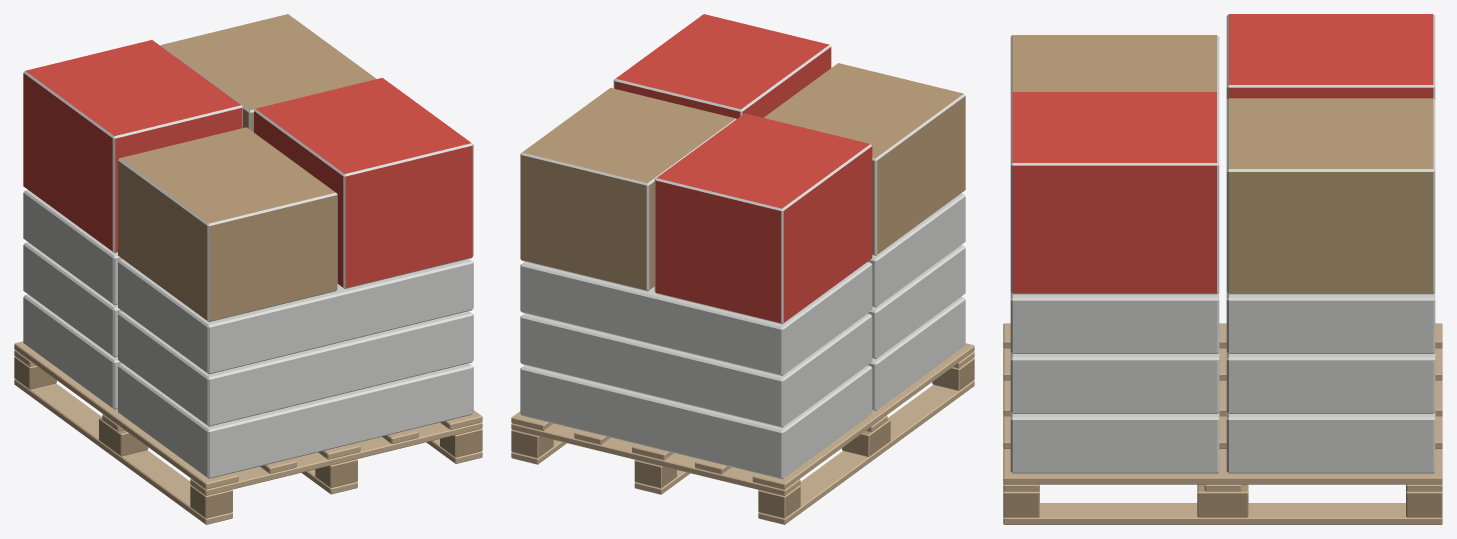
Rendered from stackercrane_pallet_v3.fbx.
The picture shows the model from 3 angles, left to right: view 1: azimuth 30°, elevation 25°; view 2: azimuth 150°, elevation 25°; view 3: azimuth 270°, elevation 25°; orthographic projection. The views are drawn at different scales.
Parts seen in each view (by area): view 1: Load_v3, Deck_v3; view 2: Load_v3, Deck_v3; view 3: Load_v3, Deck_v3.
Part boxes in pixels (<box>): Load_v3: <box>23,14,473,478</box>; Deck_v3: <box>14,341,482,524</box>; Load_v3: <box>520,14,965,479</box>; Deck_v3: <box>511,343,974,524</box>; Load_v3: <box>1010,14,1435,473</box>; Deck_v3: <box>1003,323,1442,524</box>.
Size of the model in its own units: 1 by 1.09 by 1.2.
